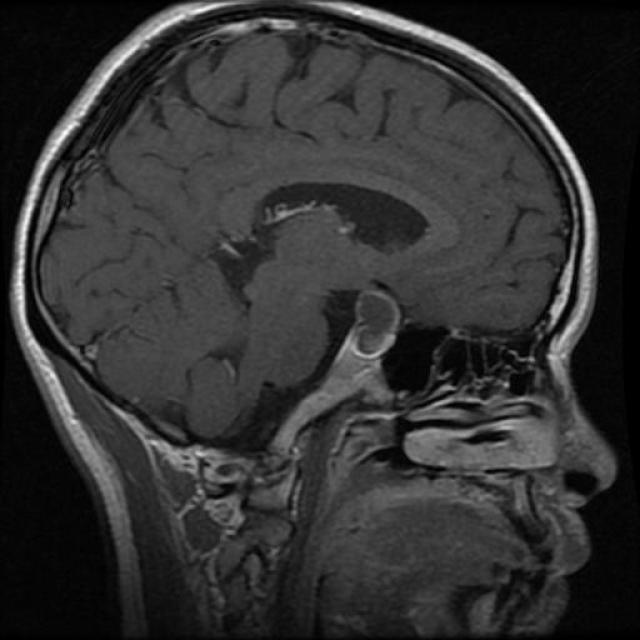pituitary: (341, 284, 412, 364)
